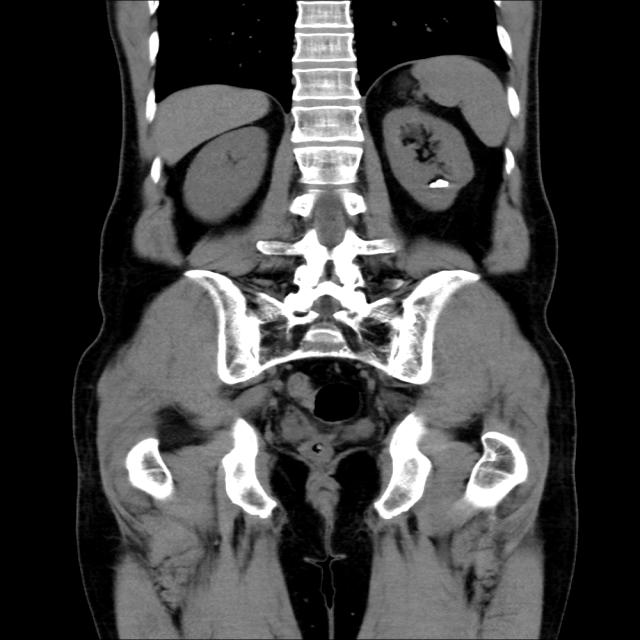kidneystone: (429, 179, 449, 189)
